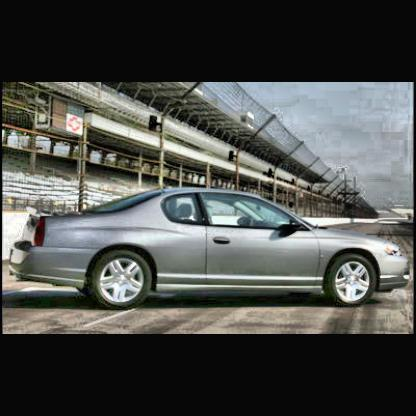Chevrolet Monte Carlo Coupe 2007: (9, 179, 414, 313)
